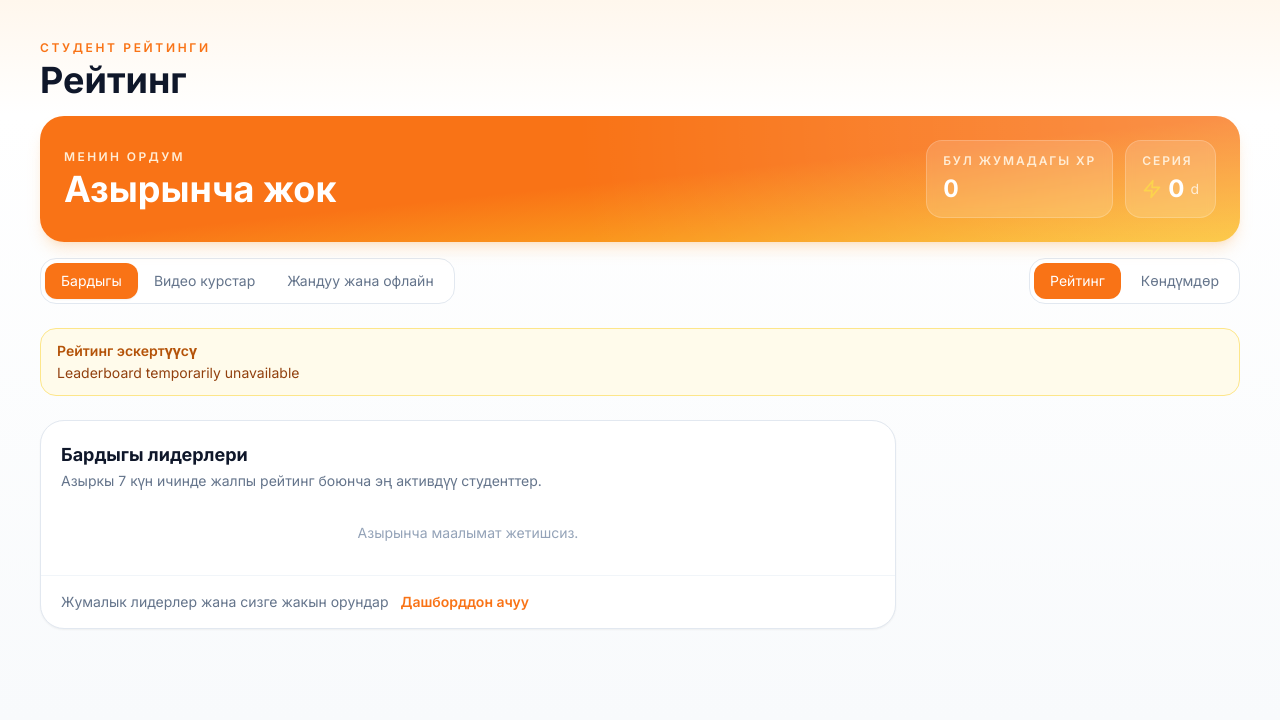
LeaderboardHub › shows personal skill progress separately from leaderboard ranking
Expected: the text "Рейтинг эскертүүсү" is shown, [57, 342, 197, 359]
Step 1. Click the tab "Көндүмдөр" → [1180, 281], box [1125, 263, 1235, 299]
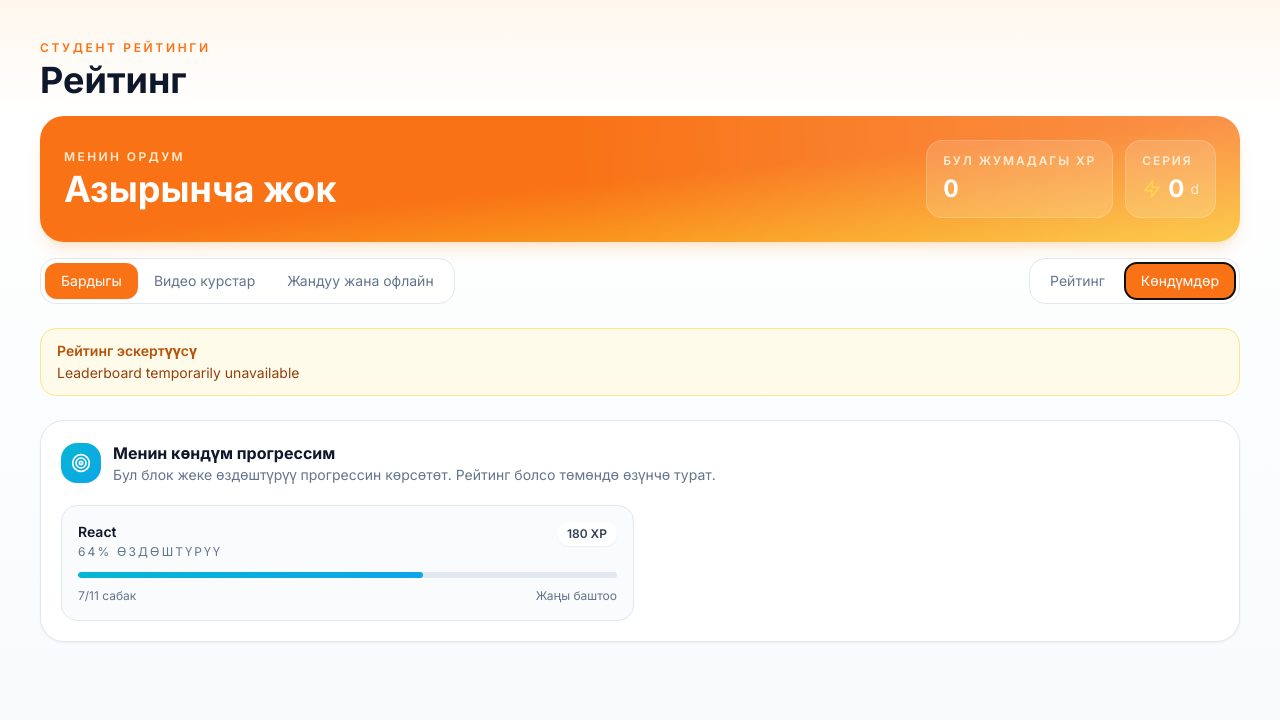
Result: the heading "Менин көндүм прогрессим" is shown at [113, 443, 335, 463]
Result: the text "64% өздөштүрүү" is shown at [78, 544, 222, 560]
Result: the text "7/11 сабак" is shown at [78, 588, 136, 604]
